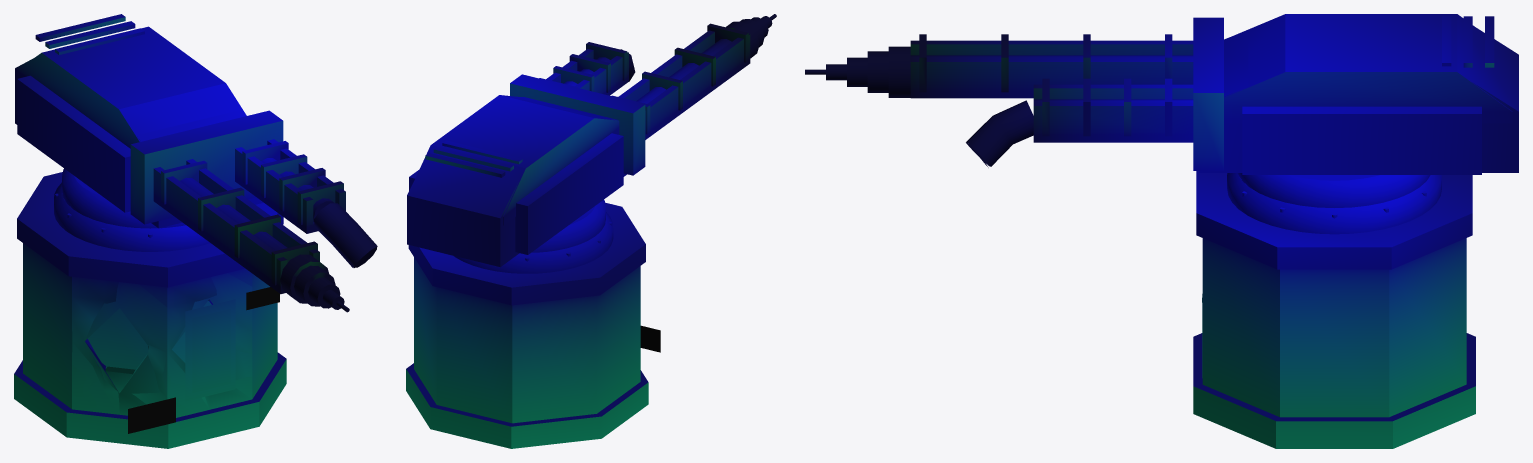
File: pulselaserturret_damaged.glb
3 renders of one model, left to right at view 1: azimuth 30°, elevation 25°; view 2: azimuth 150°, elevation 25°; view 3: azimuth 270°, elevation 25°, orthographic. The views are drawn at different scales.
Parts seen in each view (by area): view 1: lod0_Base, lod0_Turret, lod0_Gun, lod1_Base; view 2: lod0_Base, lod0_Turret, lod0_Gun; view 3: lod0_Base, lod0_Turret, lod0_Gun.
Boxes of the visible parts, box(x1,y1,x2,y2) form: lod0_Base: box(14, 172, 286, 448); lod0_Turret: box(15, 14, 263, 228); lod0_Gun: box(130, 110, 377, 312); lod1_Base: box(72, 270, 252, 415); lod0_Base: box(406, 202, 660, 448); lod0_Turret: box(407, 95, 626, 267); lod0_Gun: box(510, 14, 776, 175); lod0_Base: box(1193, 171, 1475, 448); lod0_Turret: box(1199, 14, 1518, 207); lod0_Gun: box(805, 17, 1223, 170).
Bounding box in the file's own units: 4.6 × 6.28 × 11.62.
